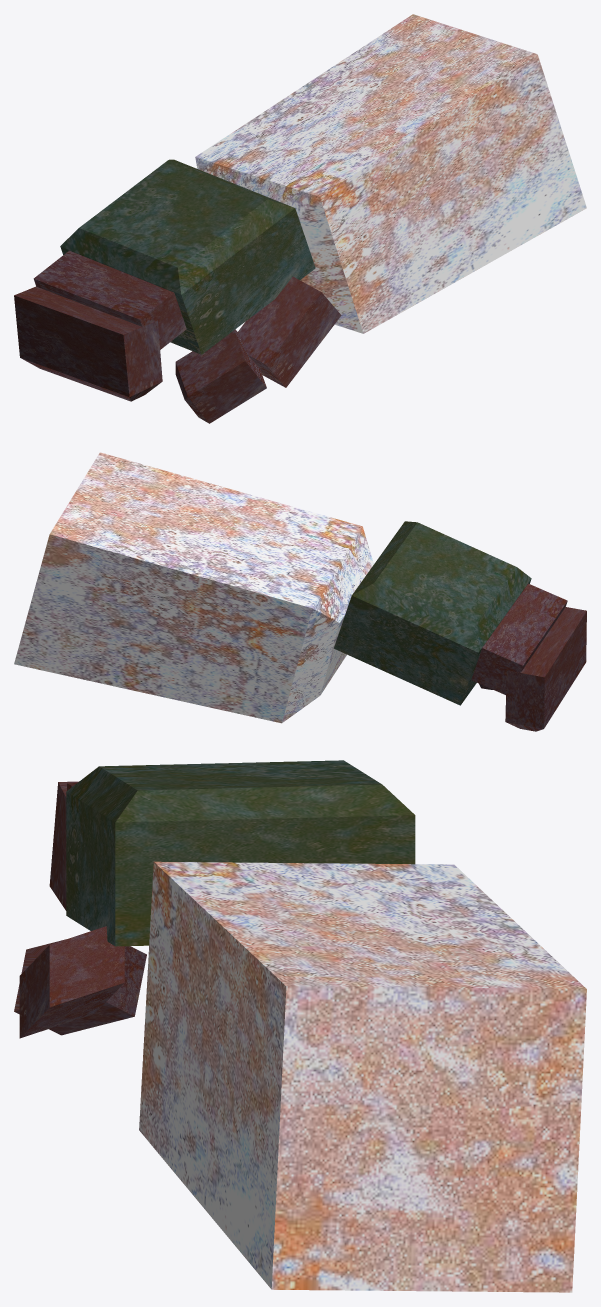
The model's file is antebrazo_der.obj.
3 views of the same model, one above another, from view 1: azimuth 30°, elevation 25°; view 2: azimuth 150°, elevation 25°; view 3: azimuth 270°, elevation 25° (orthographic). The views are drawn at different scales.
Parts seen in each view (by area): view 1: antebrazo_der; view 2: antebrazo_der; view 3: antebrazo_der.
Boxes of the visible parts, x1,y1,x2,y2 form: antebrazo_der: (14,14,586,423); antebrazo_der: (14,452,586,731); antebrazo_der: (14,760,586,1292).
Bounding box in the file's own units: 5.01 × 1.91 × 2.69.
Materials: 3 (3 with a texture image).
